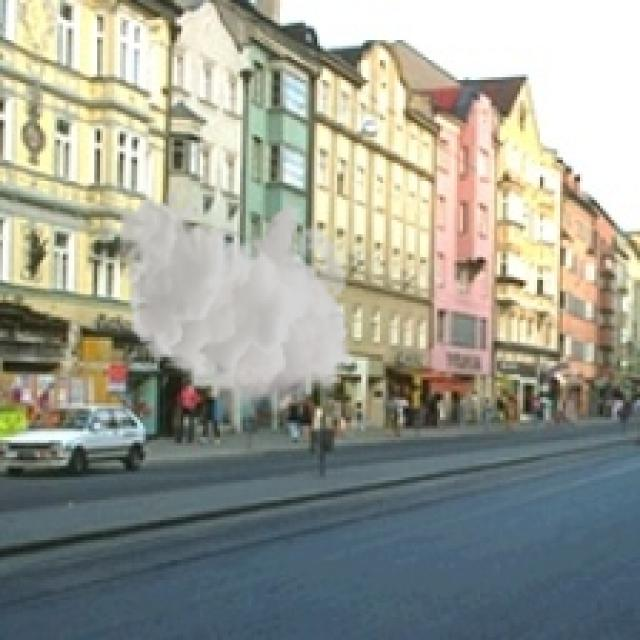smoke: (117, 188, 354, 423)
